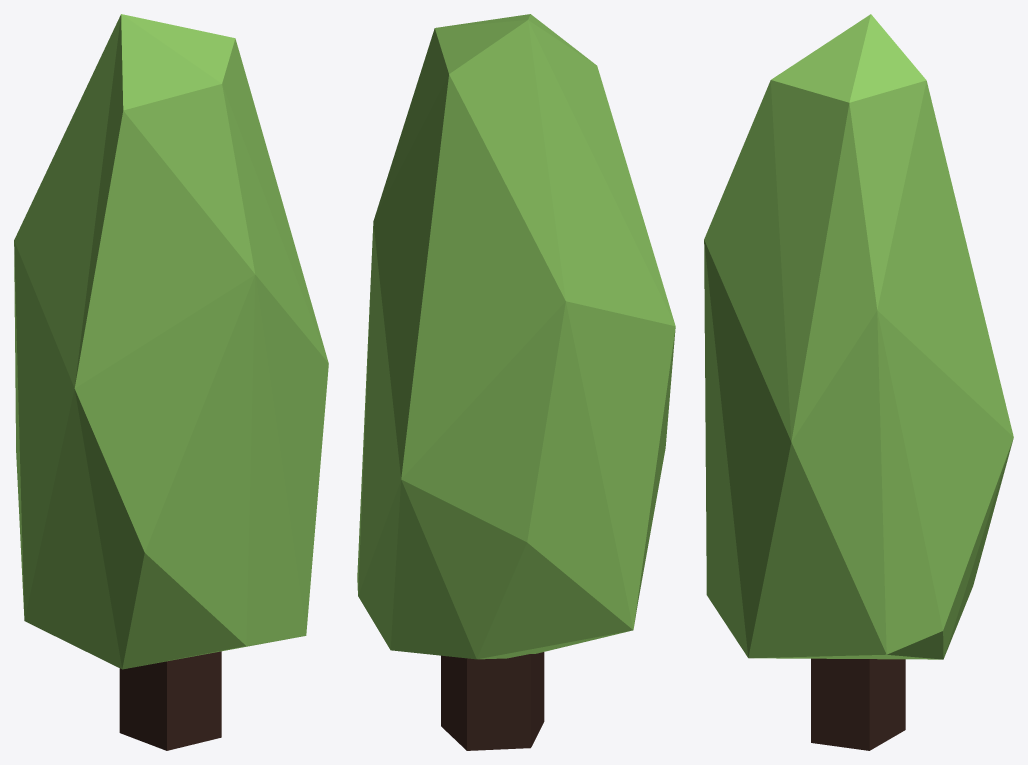
Rendered from Tree_2_green_Light_vc.fbx.
3 renders of one model, left to right at view 1: azimuth 30°, elevation 25°; view 2: azimuth 150°, elevation 25°; view 3: azimuth 270°, elevation 25°, orthographic. The views are drawn at different scales.
Visible parts, largest first — view 1: Tree_2_green_Light_vc; view 2: Tree_2_green_Light_vc; view 3: Tree_2_green_Light_vc.
Part boxes in pixels (x1,y1,x2,y2): Tree_2_green_Light_vc: [14, 14, 328, 750]; Tree_2_green_Light_vc: [357, 14, 675, 750]; Tree_2_green_Light_vc: [704, 14, 1013, 750].
Bounding box in the file's own units: 140 × 360 × 145.
